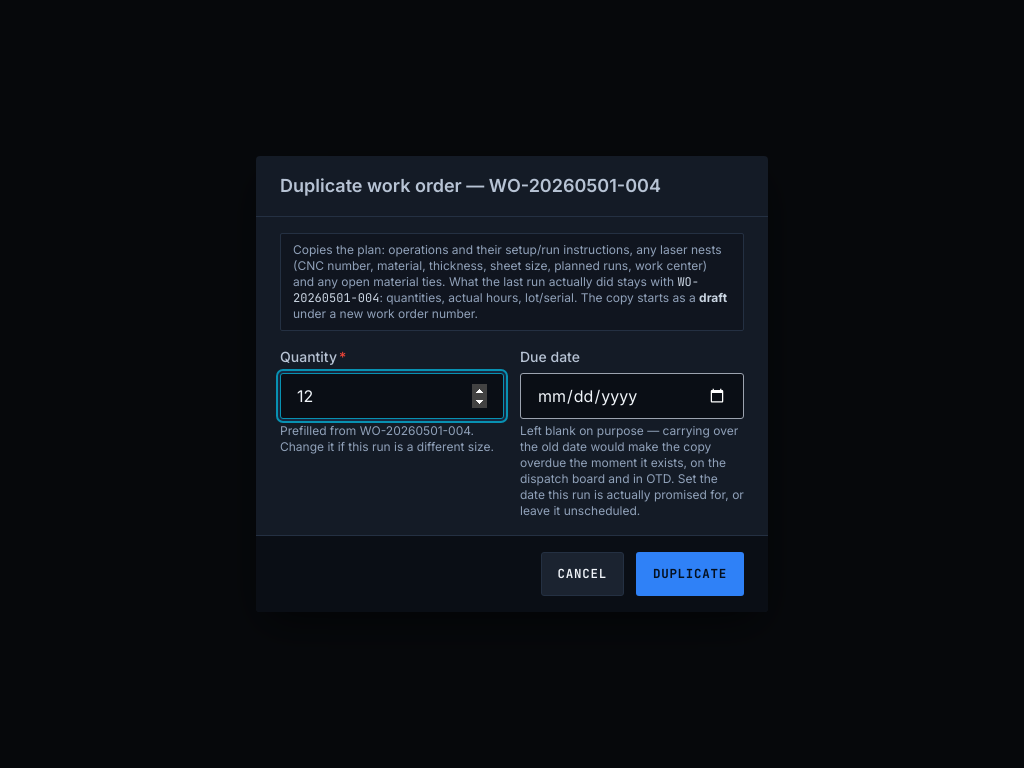
Test: DuplicateWorkOrderModal: server-gated, therefore non-optimistic › renders a refusal verbatim and keeps the dialog OPEN
expect the number field labelled "Quantity*" is enabled: met, box [280, 373, 504, 419]
Click the button "Duplicate": (690, 574) [636, 552, 744, 596]
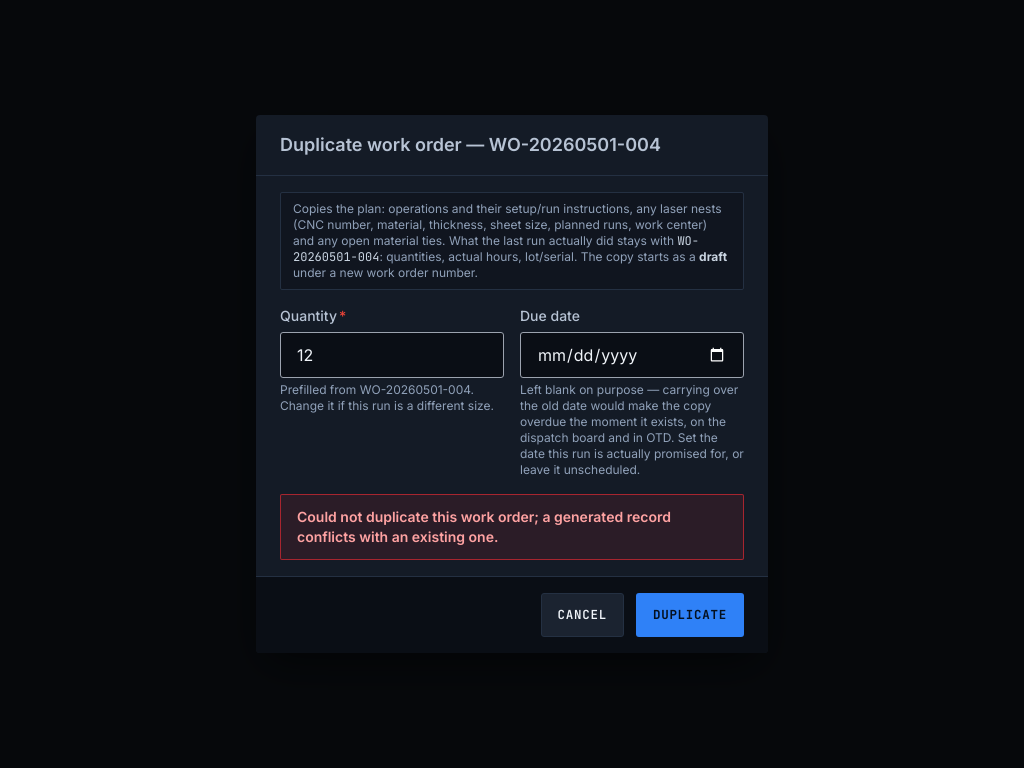
expect the dialog is shown: met, box [256, 115, 768, 653]
expect the message with test id "duplicate-wo-error" shows "Could not duplicate this work order; a generated record conflicts with an existing one.": met, box [297, 508, 671, 545]
